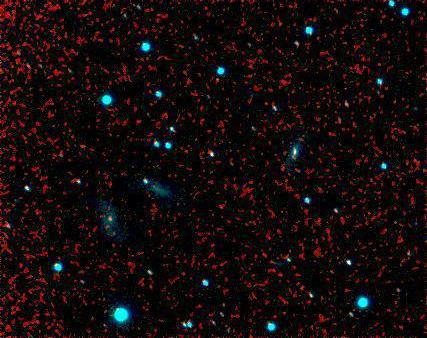star: (210, 291, 240, 321)
